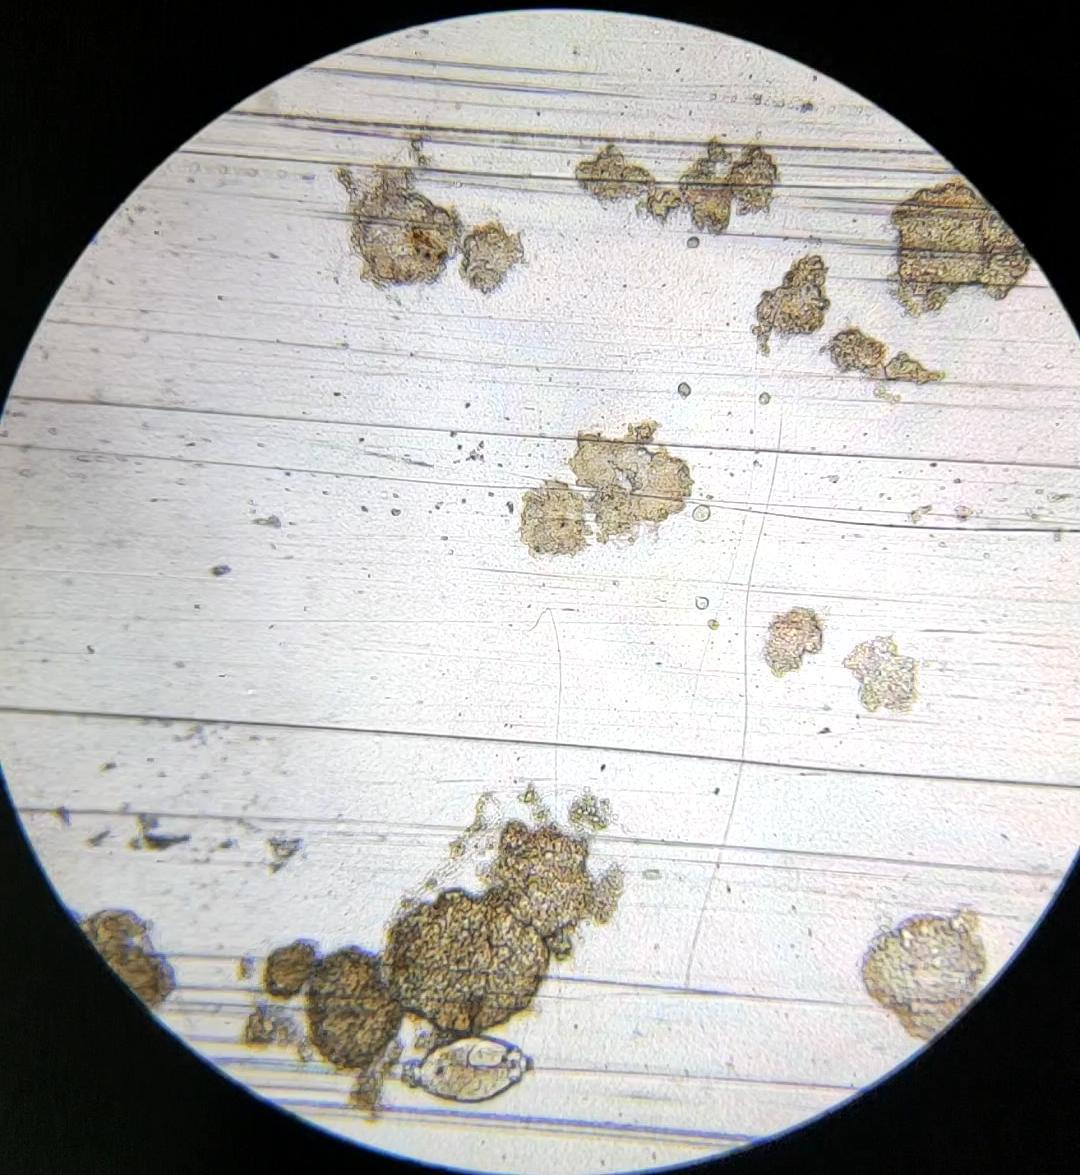Do: (402, 1036, 532, 1103)
